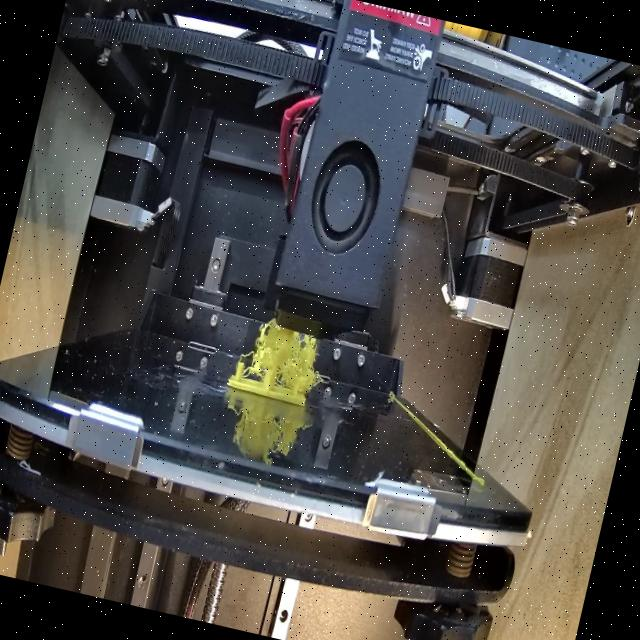spaghetti: (235, 311, 332, 392)
